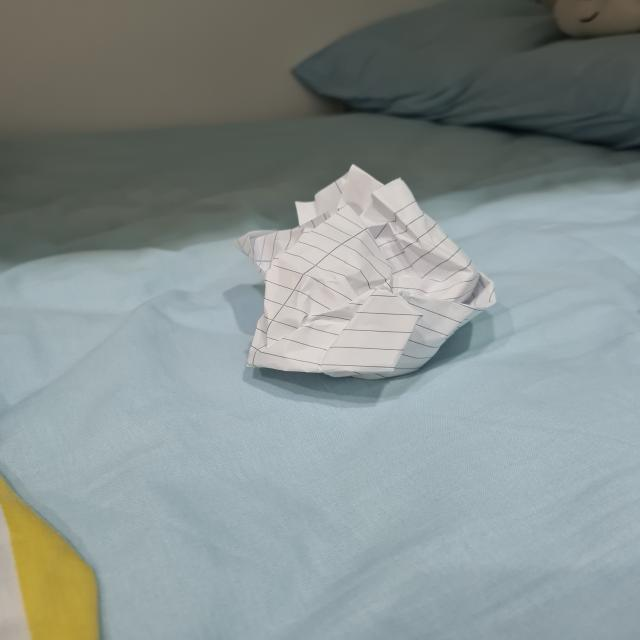Paper: (226, 160, 500, 376)
